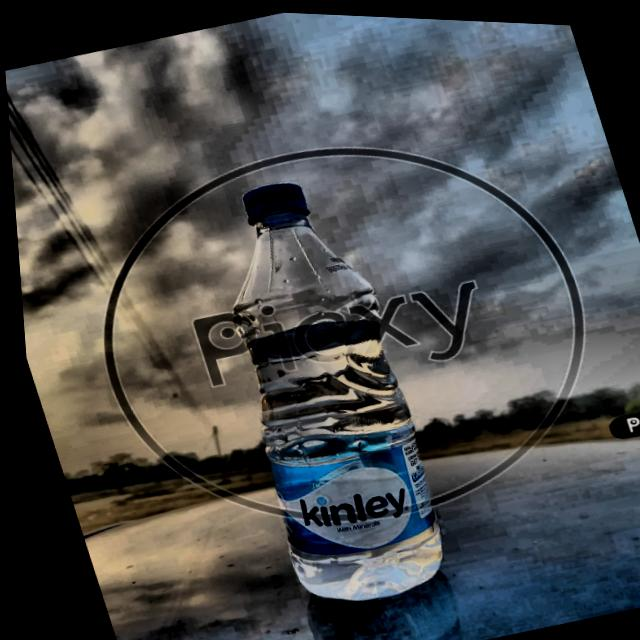Bottles: (166, 145, 488, 640)
